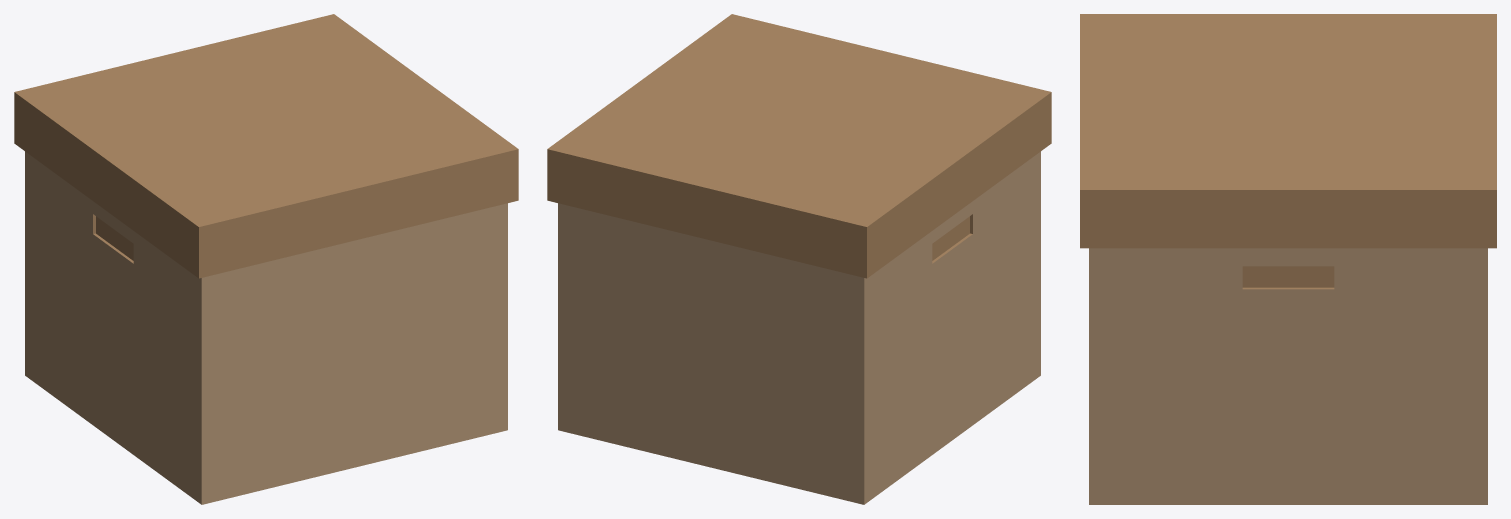
3 renders of one model, left to right at view 1: azimuth 30°, elevation 25°; view 2: azimuth 150°, elevation 25°; view 3: azimuth 270°, elevation 25°, orthographic. The views are drawn at different scales.
Visible parts, largest first — view 1: Box_02; view 2: Box_02; view 3: Box_02.
Boxes of the visible parts, <box> form: Box_02: <box>14,14,518,504</box>; Box_02: <box>547,14,1051,504</box>; Box_02: <box>1080,14,1496,504</box>.
Bounding box in the file's own units: 33.79 × 28.51 × 33.79.
